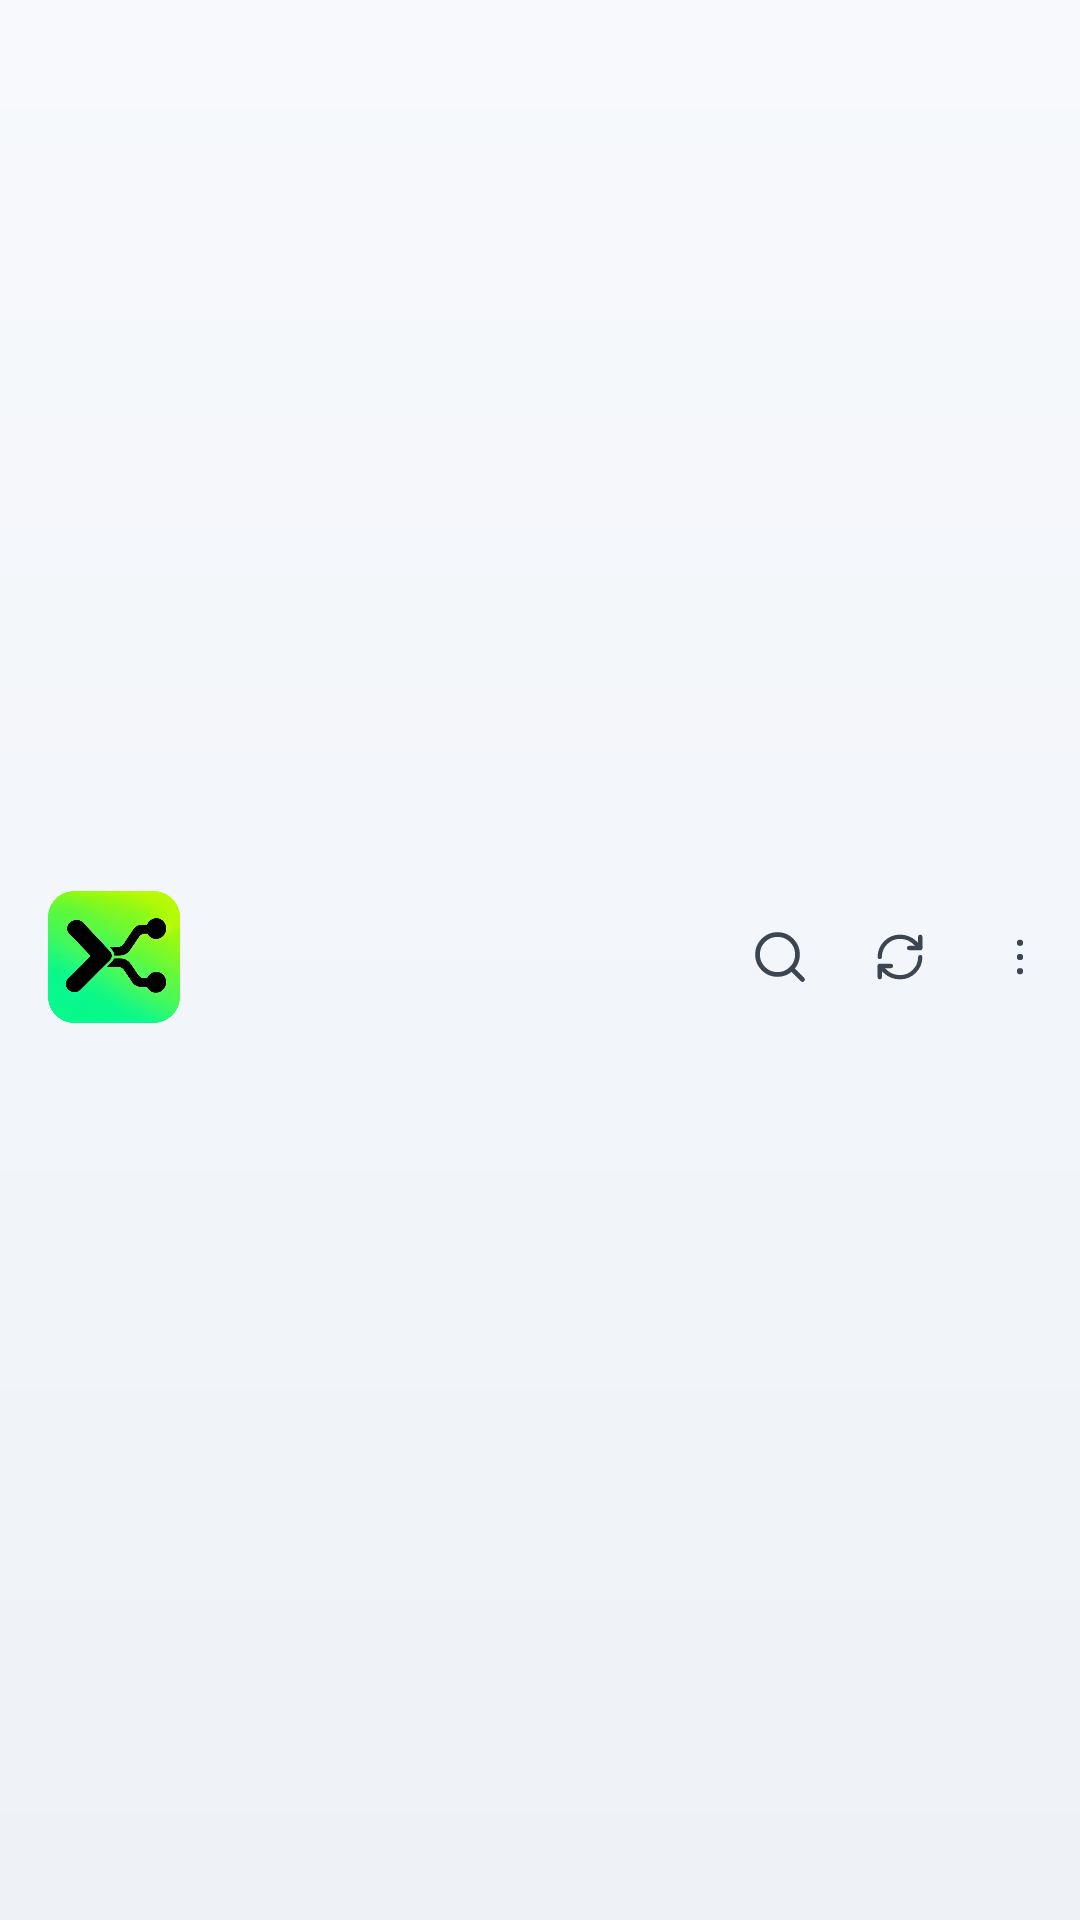

Icons on this 1080px×1920px Android screen, each with the point to tap as (x=x, y=y):
More: (x=1020, y=957)
Refresh: (x=900, y=957)
Search: (x=780, y=957)
